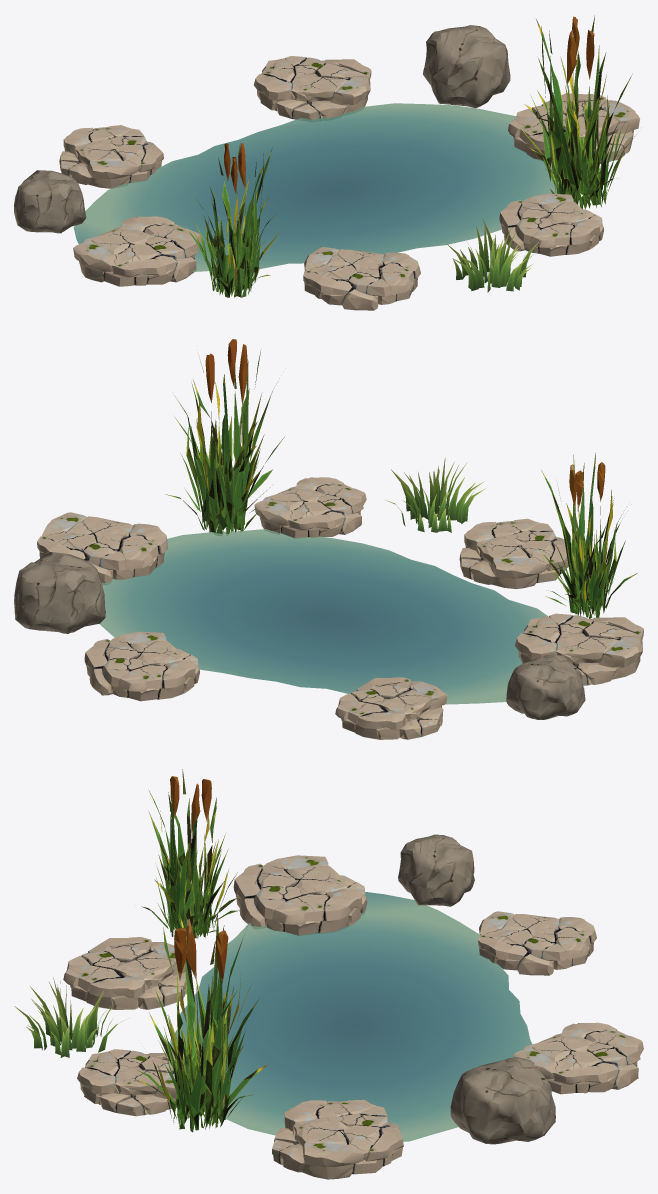
File: PondSet.glb
The picture shows the model from 3 angles, top to bottom: view 1: azimuth 30°, elevation 25°; view 2: azimuth 150°, elevation 25°; view 3: azimuth 270°, elevation 25°; orthographic projection. The views are drawn at different scales.
Parts seen in each view (by area): view 1: PondWater, object 10, object 5, object 7, object 4, object 8, object 11, object 6, object 3, object 2, object 9, GrassTuft; view 2: PondWater, object 10, object 5, object 7, object 4, object 8, object 2, object 11, object 6, object 3, object 9, GrassTuft; view 3: PondWater, object 10, object 2, object 5, object 8, object 4, object 11, object 7, object 6, object 3, object 9, GrassTuft.
Part boxes in pixels (box(x1,y1,x2,y2)): PondWater: box(73, 103, 558, 271); object 10: box(518, 15, 636, 208); object 5: box(73, 216, 201, 286); object 7: box(254, 56, 371, 120); object 4: box(303, 247, 420, 310); object 8: box(423, 25, 510, 108); object 11: box(184, 143, 283, 297); object 6: box(59, 125, 163, 188); object 3: box(499, 193, 603, 256); object 2: box(508, 93, 639, 163); object 9: box(14, 170, 86, 233); GrassTuft: box(447, 218, 538, 292); PondWater: box(99, 529, 586, 704); object 10: box(165, 339, 284, 534); object 5: box(515, 613, 643, 685); object 7: box(84, 631, 199, 701); object 4: box(459, 518, 571, 589); object 8: box(14, 552, 105, 633); object 2: box(37, 512, 168, 582); object 11: box(537, 453, 637, 618); object 6: box(335, 677, 447, 739); object 3: box(254, 477, 366, 538); object 9: box(506, 654, 585, 719); GrassTuft: box(385, 457, 485, 532); PondWater: box(170, 892, 532, 1141); object 10: box(134, 912, 267, 1132); object 2: box(272, 1099, 403, 1179); object 5: box(233, 855, 367, 935); object 8: box(450, 1057, 555, 1144); object 4: box(63, 937, 186, 1009); object 11: box(141, 769, 244, 938); object 7: box(513, 1022, 643, 1094); object 6: box(478, 911, 596, 975); object 3: box(77, 1049, 184, 1116); object 9: box(398, 834, 474, 906); GrassTuft: box(14, 977, 128, 1057).
Size of the model in its own units: 4.32 by 1.3 by 3.79.
Materials: 5 (5 with a texture image).
